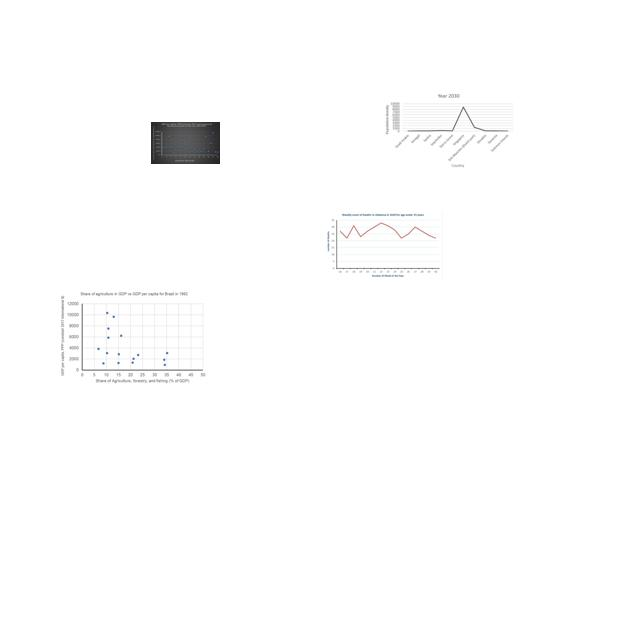Graph: (58, 286, 207, 385), (380, 90, 517, 172), (324, 211, 443, 281), (151, 122, 220, 164)
